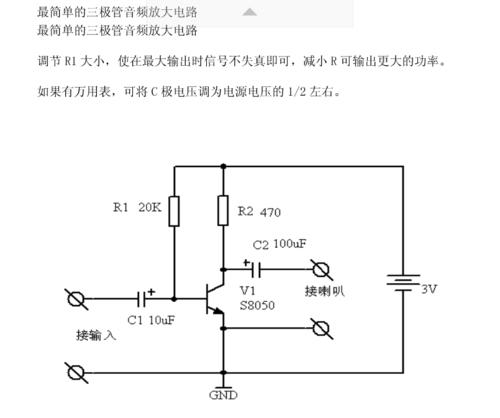cap1: (249, 258, 264, 281), (135, 289, 148, 309)
power2: (382, 271, 421, 296)
res1: (167, 194, 182, 230), (216, 192, 230, 228)
triode: (203, 276, 230, 322)
